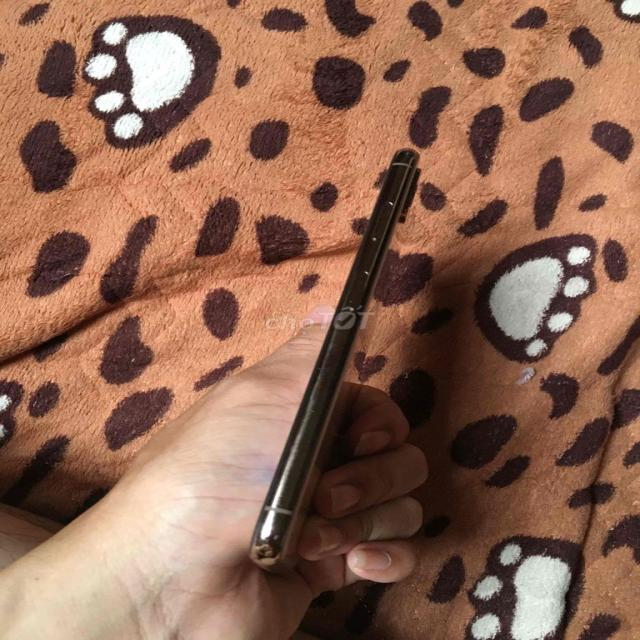scratch: (284, 436, 312, 474), (324, 344, 343, 394), (305, 390, 327, 424), (270, 532, 283, 548)
